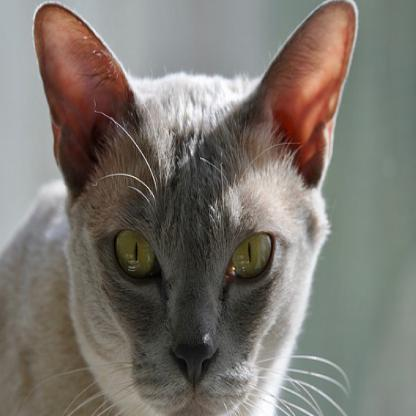cat: (15, 0, 358, 415)
